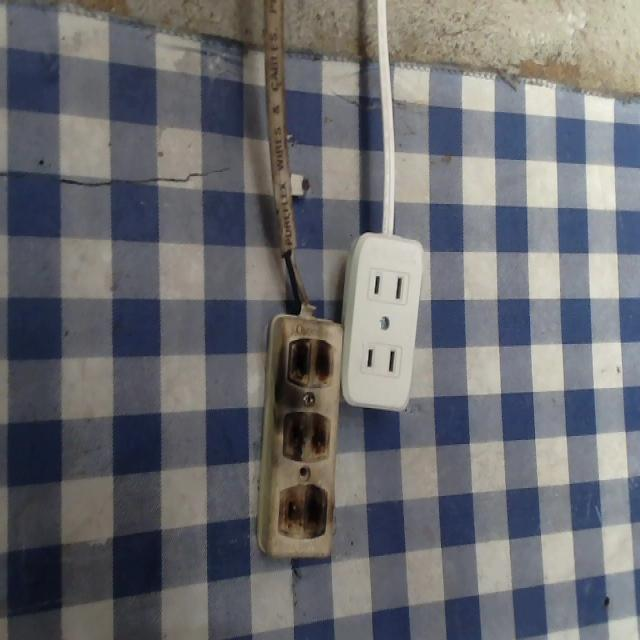-: (271, 481, 334, 544), (282, 401, 333, 463), (290, 328, 337, 388)
